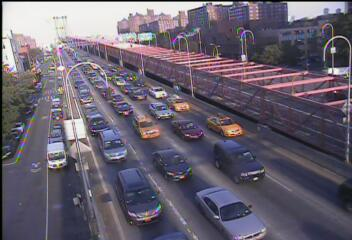neg: (16, 49, 27, 65)
